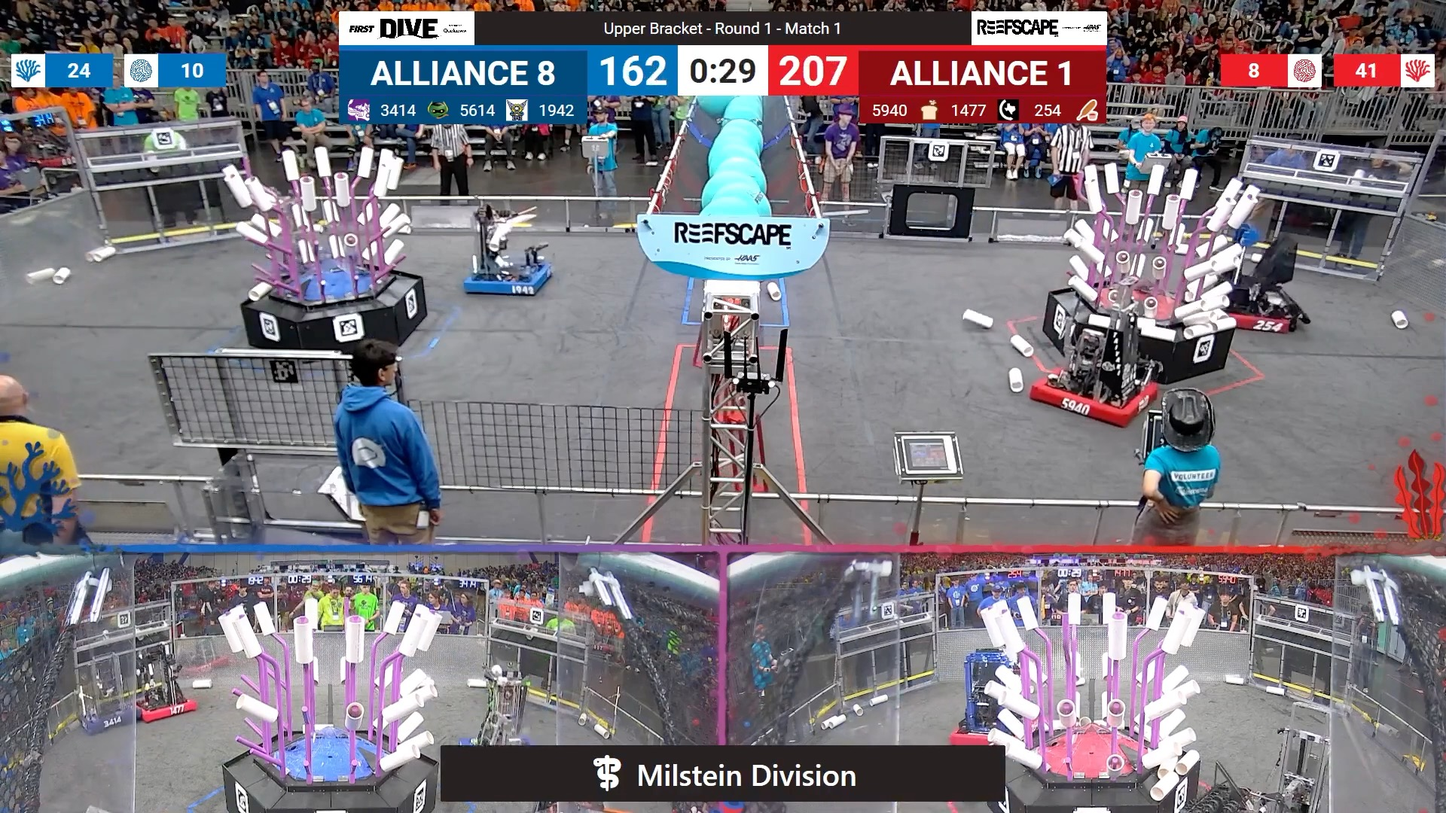bumpers: (1025, 365, 1171, 432), (458, 256, 558, 301), (1216, 293, 1303, 338), (124, 689, 206, 726), (75, 701, 138, 737)
